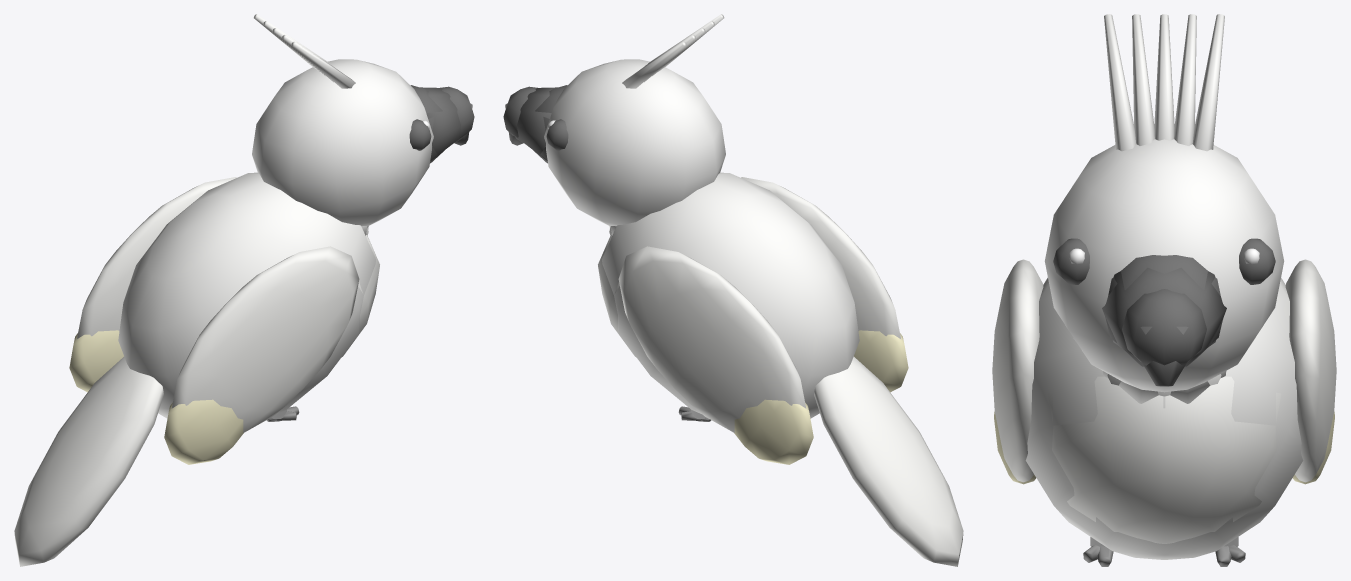
File: white-cockatoo.glb
The picture shows the model from 3 angles, left to right: view 1: azimuth 30°, elevation 25°; view 2: azimuth 150°, elevation 25°; view 3: azimuth 270°, elevation 25°; orthographic projection. The views are drawn at different scales.
Parts seen in each view (by area): view 1: e, e.009, e.002, e.004; view 2: e, e.009, e.004, e.002; view 3: e.009, e, e.002, e.004, e.007, limb, limb.004.
Boxes of the visible parts, bbox=[...] form: e: bbox=[14, 172, 379, 566]; e.009: bbox=[252, 14, 474, 226]; e.002: bbox=[164, 246, 359, 464]; e.004: bbox=[69, 177, 236, 392]; e: bbox=[598, 172, 963, 566]; e.009: bbox=[503, 14, 725, 226]; e.004: bbox=[618, 246, 813, 464]; e.002: bbox=[741, 177, 908, 392]; e.009: bbox=[1044, 14, 1284, 392]; e: bbox=[1025, 277, 1303, 559]; e.002: bbox=[992, 259, 1043, 484]; e.004: bbox=[1285, 259, 1336, 484]; e.007: bbox=[1102, 371, 1226, 403]; limb: bbox=[1083, 537, 1113, 566]; limb.004: bbox=[1215, 537, 1245, 566].
Size of the model in its own units: 0.4961 by 0.4989 by 0.22.
